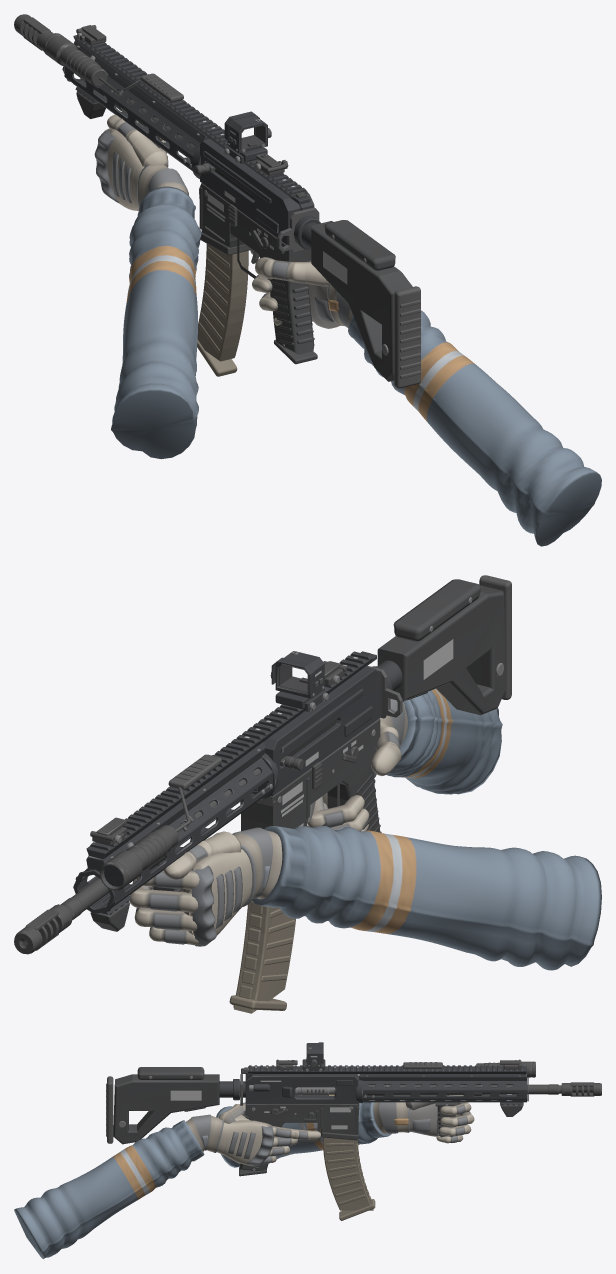
The model's file is pac9.glb.
3 renders of one model, top to bottom at view 1: azimuth 30°, elevation 25°; view 2: azimuth 150°, elevation 25°; view 3: azimuth 270°, elevation 25°, orthographic. The views are drawn at different scales.
Visible parts, largest first — view 1: glove_fabric, pac9_polymer, pac9_anodised, pac9_phosphate, pac9_polymer_tan, pac9_matte, pac9_pin; view 2: glove_fabric, pac9_anodised, pac9_polymer, pac9_phosphate, pac9_polymer_tan, pac9_matte, pac9_pin; view 3: glove_fabric, pac9_anodised, pac9_polymer, pac9_phosphate, pac9_polymer_tan, pac9_matte, pac9_pin.
Part boxes in pixels (left/top/right/bottom): glove_fabric: left=94, top=114, right=601, bottom=546; pac9_polymer: left=76, top=91, right=412, bottom=381; pac9_anodised: left=62, top=35, right=320, bottom=249; pac9_phosphate: left=14, top=14, right=388, bottom=355; pac9_polymer_tan: left=197, top=244, right=248, bottom=376; pac9_matte: left=99, top=73, right=420, bottom=388; pac9_pin: left=203, top=120, right=347, bottom=284; glove_fabric: left=129, top=689, right=601, bottom=970; pac9_anodised: left=73, top=651, right=402, bottom=914; pac9_polymer: left=90, top=579, right=505, bottom=931; pac9_phosphate: left=14, top=597, right=503, bottom=954; pac9_polymer_tan: left=229, top=791, right=295, bottom=1013; pac9_matte: left=168, top=575, right=511, bottom=831; pac9_pin: left=244, top=639, right=453, bottom=826; glove_fabric: left=14, top=1095, right=474, bottom=1259; pac9_anodised: left=219, top=1042, right=528, bottom=1105; pac9_polymer: left=113, top=1067, right=523, bottom=1176; pac9_phosphate: left=118, top=1047, right=601, bottom=1170; pac9_polymer_tan: left=323, top=1137, right=375, bottom=1220; pac9_matte: left=106, top=1047, right=445, bottom=1143; pac9_pin: left=170, top=1056, right=369, bottom=1129.
Size of the model in its own units: 0.4208 by 0.3604 by 1.04.
